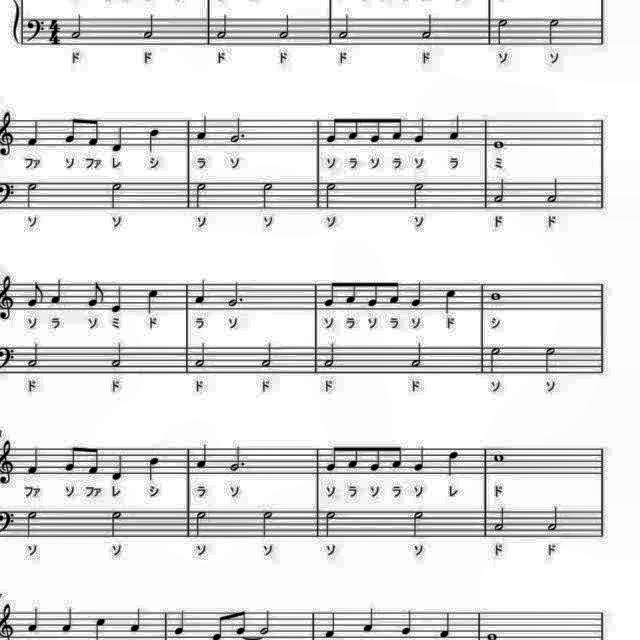Bass-clef: (24, 13, 48, 42)
Eighth-note: (85, 278, 108, 310), (24, 278, 46, 308), (325, 113, 343, 147), (323, 276, 341, 310), (85, 116, 102, 150), (63, 114, 81, 146), (63, 442, 81, 474), (325, 441, 343, 473), (86, 444, 104, 476), (234, 606, 250, 638), (366, 115, 382, 147), (366, 442, 382, 474), (364, 276, 380, 308), (344, 276, 360, 306), (346, 114, 362, 144), (388, 442, 404, 472), (346, 442, 362, 472), (386, 278, 402, 306), (390, 116, 404, 144)
Full-note: (490, 450, 508, 466), (488, 288, 504, 304), (490, 137, 506, 151)
Half-dot: (226, 278, 247, 310), (226, 441, 246, 473), (228, 115, 248, 147)
Half-note: (490, 502, 510, 534), (544, 176, 564, 208), (544, 502, 564, 534), (545, 14, 563, 48), (408, 339, 428, 369), (490, 177, 510, 207), (24, 178, 42, 210), (24, 508, 42, 540), (493, 16, 511, 48), (110, 182, 128, 214), (191, 508, 209, 540), (140, 10, 158, 42), (107, 508, 125, 540), (540, 344, 558, 376), (410, 181, 428, 213), (487, 343, 505, 375), (410, 508, 428, 540), (321, 508, 339, 540), (337, 12, 355, 42), (276, 12, 294, 42), (191, 339, 209, 369), (419, 12, 437, 42), (108, 339, 126, 369), (260, 341, 278, 371), (321, 340, 339, 370), (324, 182, 342, 212), (261, 512, 279, 542), (70, 11, 86, 43), (192, 180, 208, 212), (26, 340, 42, 372), (262, 182, 278, 214), (258, 606, 274, 638), (213, 12, 230, 42)
Quarter-note: (108, 451, 126, 484), (47, 276, 65, 308), (321, 608, 339, 640), (171, 606, 189, 638), (128, 604, 146, 636), (25, 116, 43, 148), (25, 446, 43, 478), (438, 608, 456, 640), (109, 123, 127, 155), (399, 606, 416, 638), (409, 276, 426, 308), (359, 602, 376, 634), (445, 448, 463, 478), (446, 114, 464, 144), (143, 285, 161, 315), (194, 115, 212, 144), (108, 282, 124, 314), (60, 606, 76, 638), (26, 604, 42, 636), (444, 287, 461, 317), (412, 115, 428, 146), (192, 275, 208, 305), (412, 444, 428, 474), (146, 126, 162, 156), (146, 455, 162, 485), (195, 442, 211, 471)
